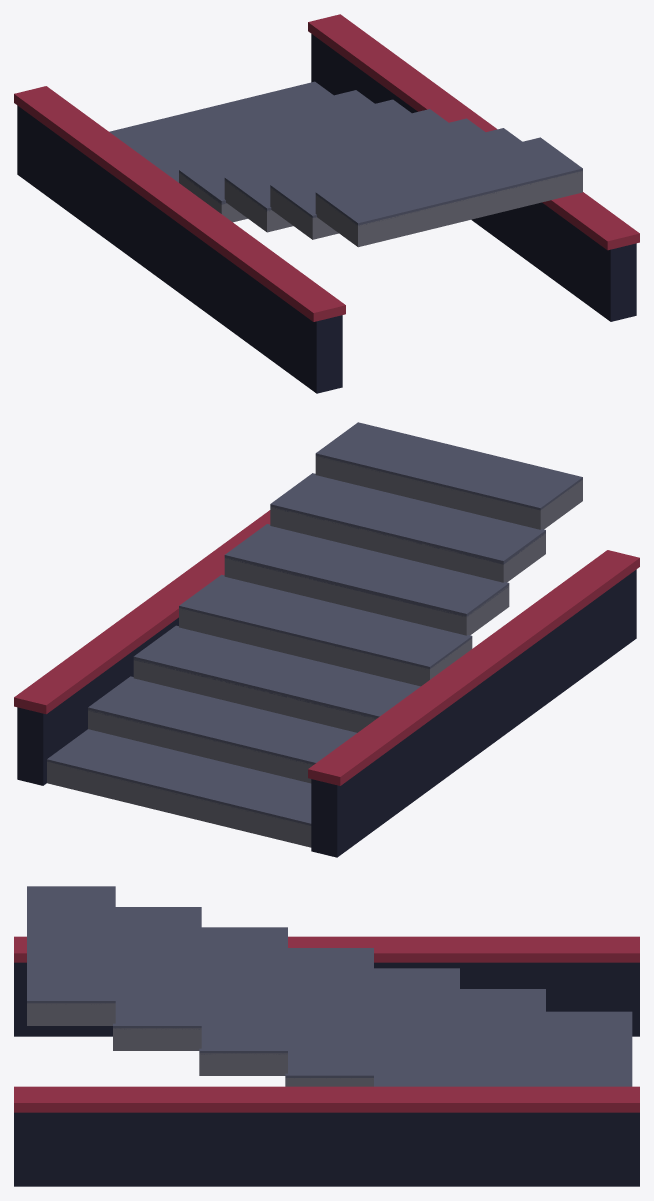
File: moonfall_ceremonial_steps.obj
The picture shows the model from 3 angles, top to bottom: view 1: azimuth 30°, elevation 25°; view 2: azimuth 150°, elevation 25°; view 3: azimuth 270°, elevation 25°; orthographic projection. The views are drawn at different scales.
Parts seen in each view (by area): view 1: moonfall_ceremonial_steps; view 2: moonfall_ceremonial_steps; view 3: moonfall_ceremonial_steps.
Boxes of the visible parts, left/top/right/bottom form: moonfall_ceremonial_steps: left=14, top=14, right=639, bottom=393; moonfall_ceremonial_steps: left=14, top=422, right=639, bottom=857; moonfall_ceremonial_steps: left=14, top=886, right=639, bottom=1186.
Bounding box in the file's own units: 7.55 × 3.41 × 12.
